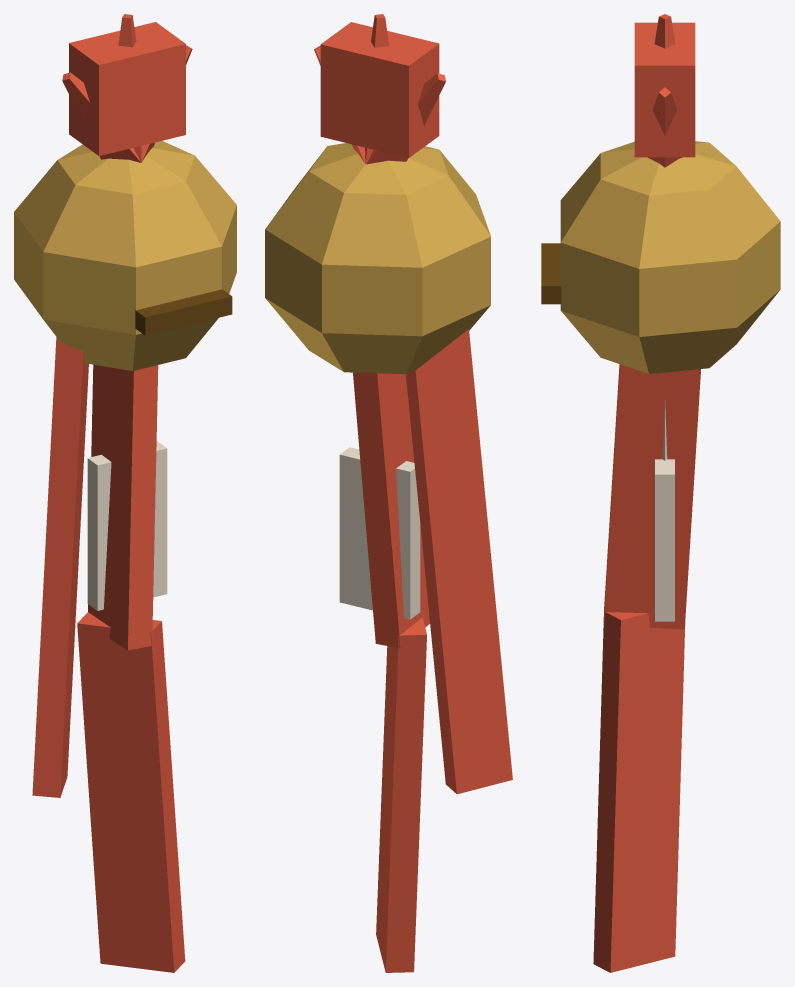
The model's file is gear_norigae_t4_R.glb.
The picture shows the model from 3 angles, left to right: view 1: azimuth 30°, elevation 25°; view 2: azimuth 150°, elevation 25°; view 3: azimuth 270°, elevation 25°; orthographic projection.
Visible parts, largest first — view 1: gear_norigae_t4_R; view 2: gear_norigae_t4_R; view 3: gear_norigae_t4_R.
Part boxes in pixels (x1,y1,x2,y2): gear_norigae_t4_R: (14,14,236,972); gear_norigae_t4_R: (265,14,512,972); gear_norigae_t4_R: (541,14,780,972).
Bounding box in the file's own units: 0.1206 × 0.5149 × 0.1181.
